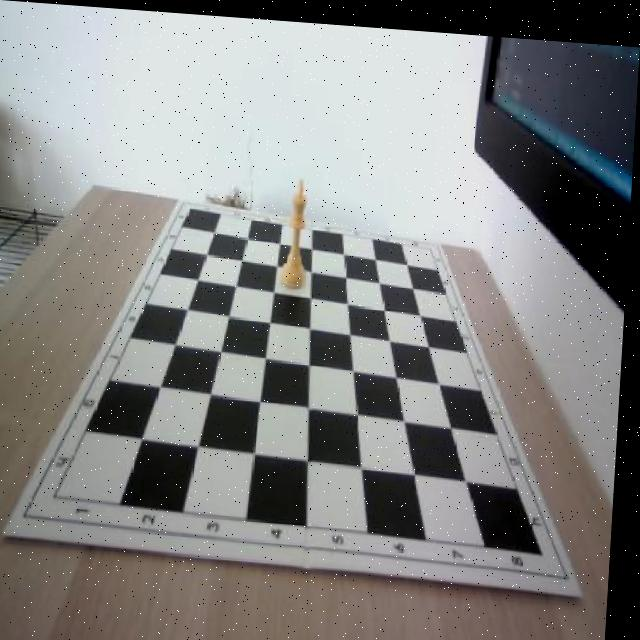white-bishop: (283, 172, 314, 285)
